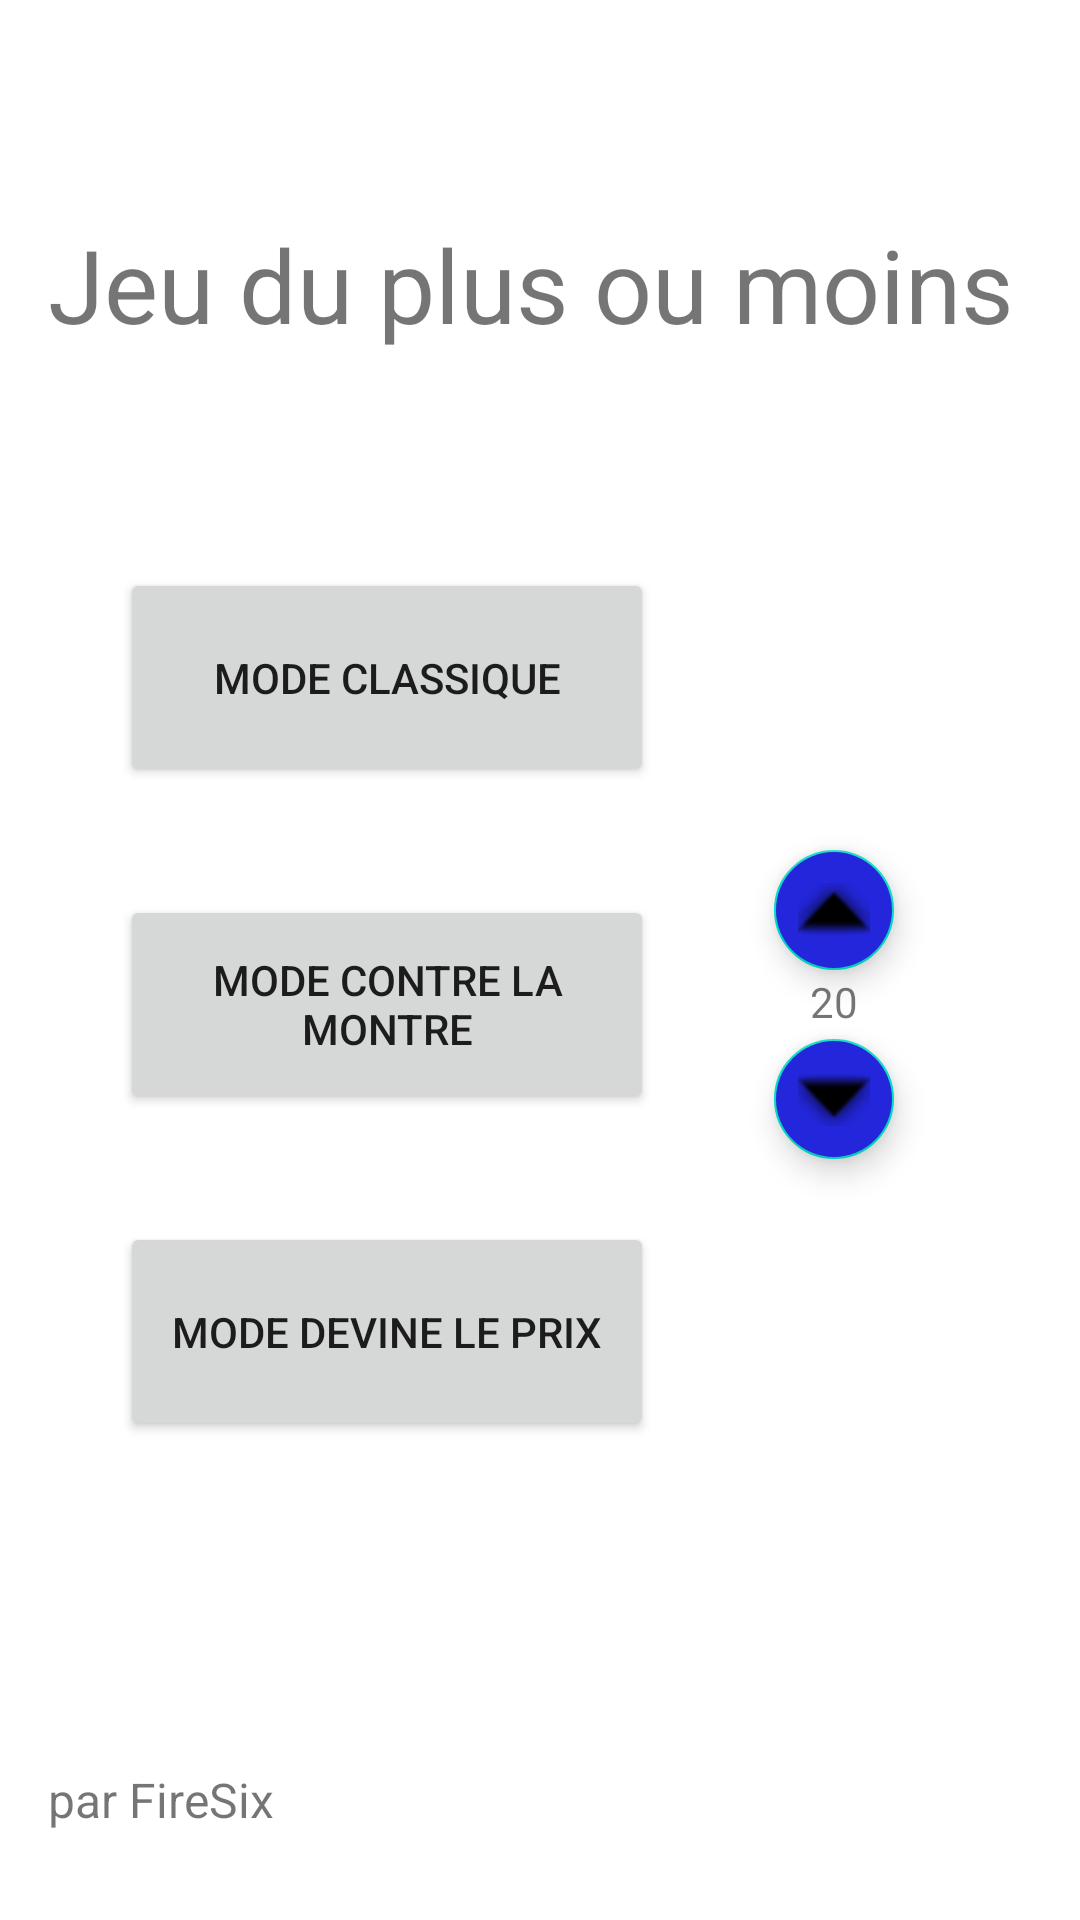

Where icons sit on this 1080px x 1920px app screen, as (x1, y1, x2, y2):
arrow down float: (774, 1039, 896, 1167)
arrow up float: (774, 850, 896, 976)
